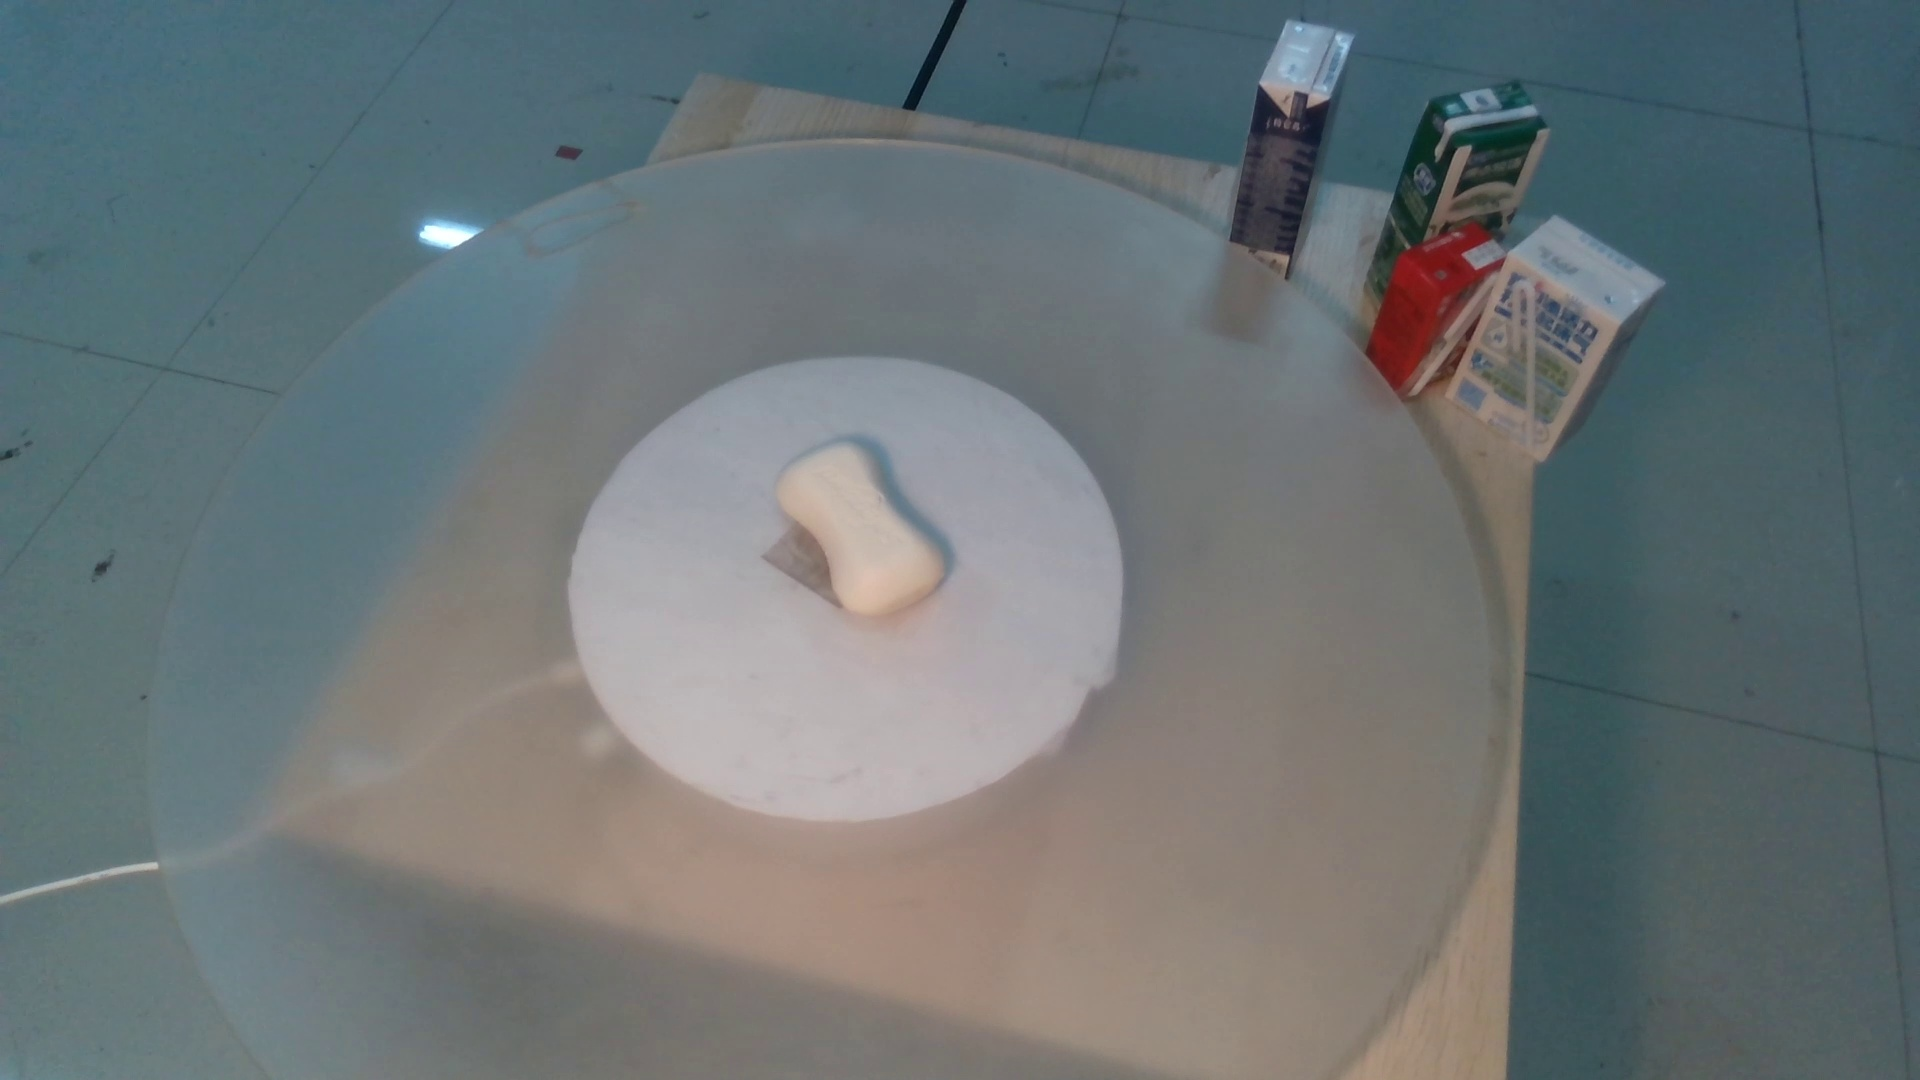CA003_1: (711, 487, 963, 659)
